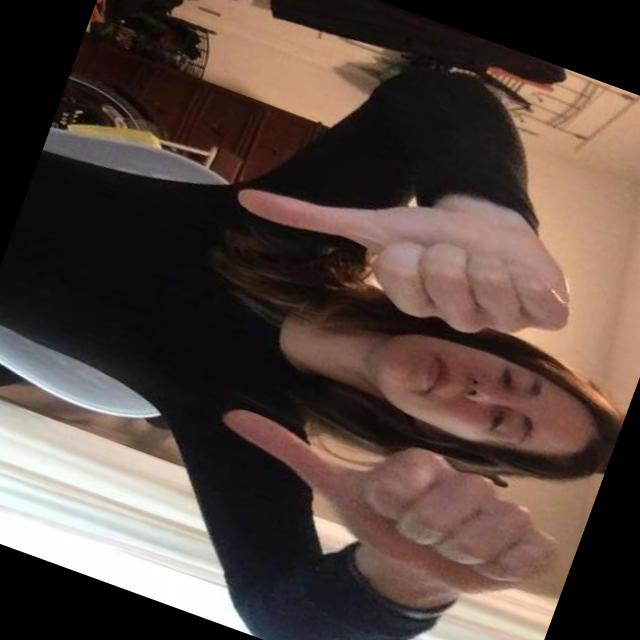bareface: (349, 287, 621, 500)
